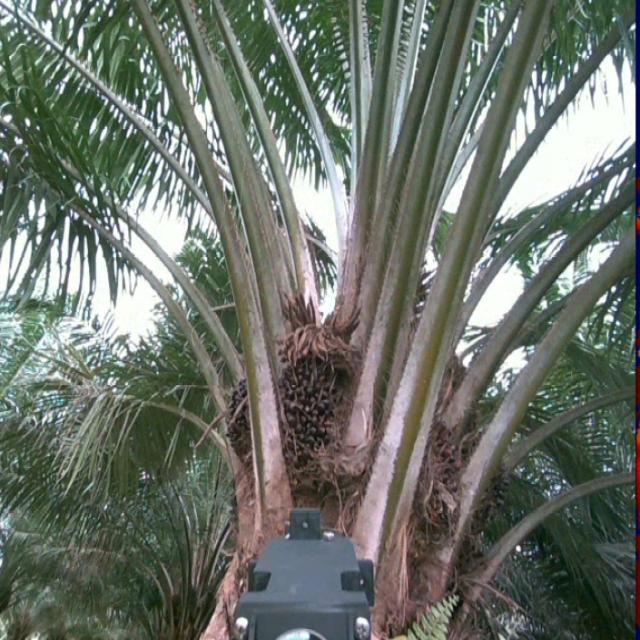palm-oil: (271, 328, 346, 473), (412, 420, 462, 546), (224, 377, 262, 487)
